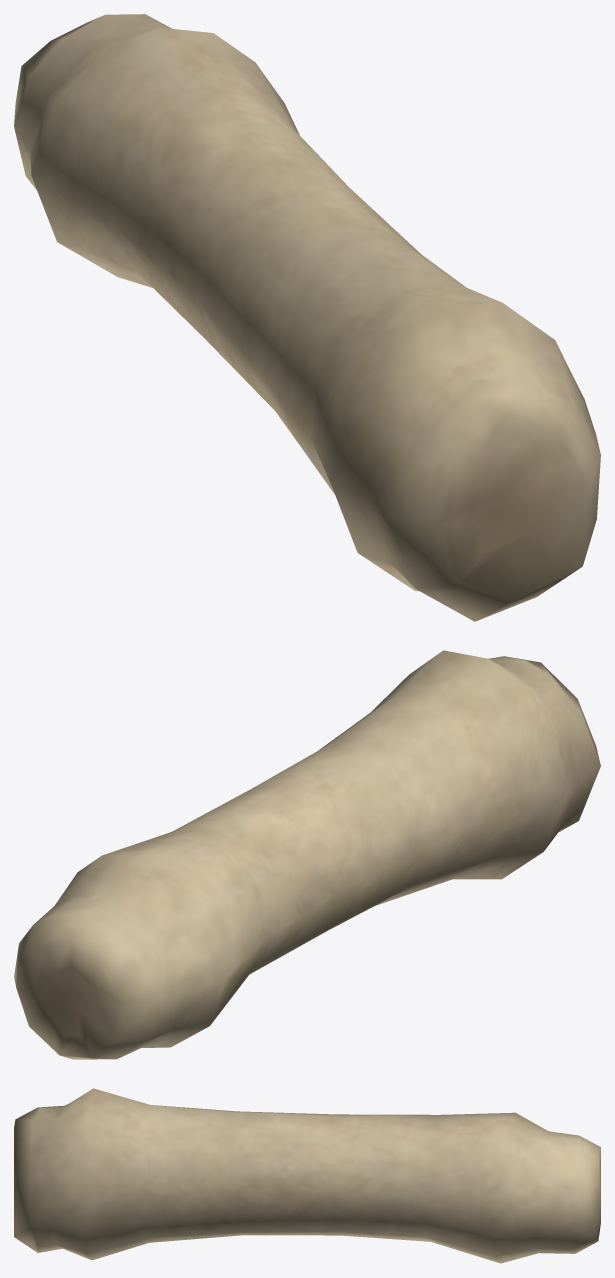
The model's file is Caudal_Vertebrae15.glb.
3 views of the same model, one above another, from view 1: azimuth 30°, elevation 25°; view 2: azimuth 150°, elevation 25°; view 3: azimuth 270°, elevation 25° (orthographic). The views are drawn at different scales.
Parts seen in each view (by area): view 1: Caudal_Vertebrae_34:Group7835; view 2: Caudal_Vertebrae_34:Group7835; view 3: Caudal_Vertebrae_34:Group7835.
Part boxes in pixels (x1,y1,x2,y2): Caudal_Vertebrae_34:Group7835: (14, 14, 600, 621); Caudal_Vertebrae_34:Group7835: (14, 650, 600, 1059); Caudal_Vertebrae_34:Group7835: (14, 1088, 600, 1263).
Size of the model in its own units: 5.1 by 4.48 by 15.
1 material, 1 textured.
